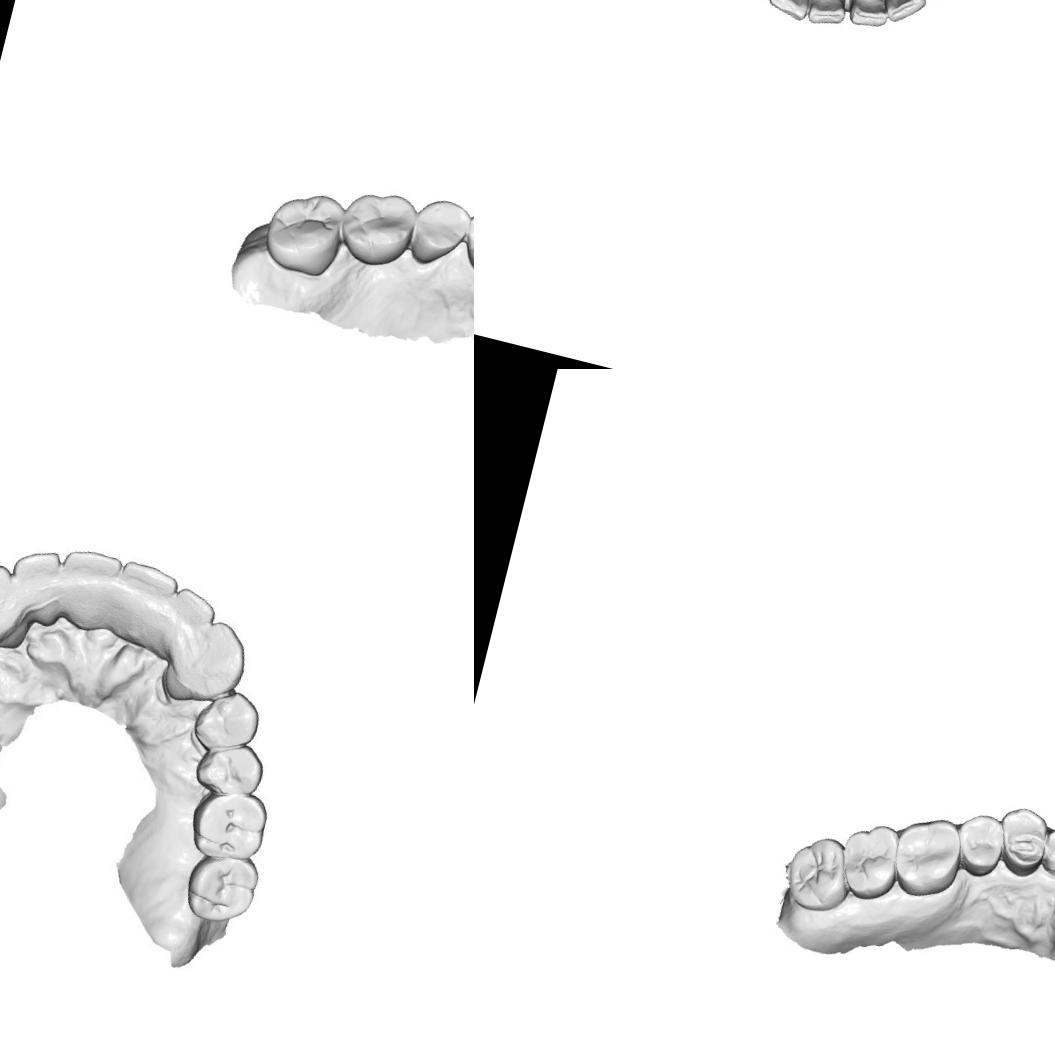canine: (173, 613, 256, 706), (0, 557, 33, 643), (1037, 817, 1055, 885)
incisor: (106, 558, 184, 635), (53, 546, 129, 624), (7, 543, 68, 611), (164, 586, 216, 644), (875, 0, 932, 28), (845, 0, 895, 31), (804, 0, 855, 30), (764, 0, 819, 23)
molar: (255, 180, 352, 282), (882, 807, 972, 906), (331, 182, 421, 274), (776, 828, 858, 918), (828, 814, 907, 907), (186, 784, 272, 865), (180, 850, 258, 928)
premolar: (399, 190, 474, 276), (187, 729, 269, 805), (986, 800, 1055, 881), (946, 805, 1012, 883), (192, 685, 264, 754), (455, 202, 474, 281)
